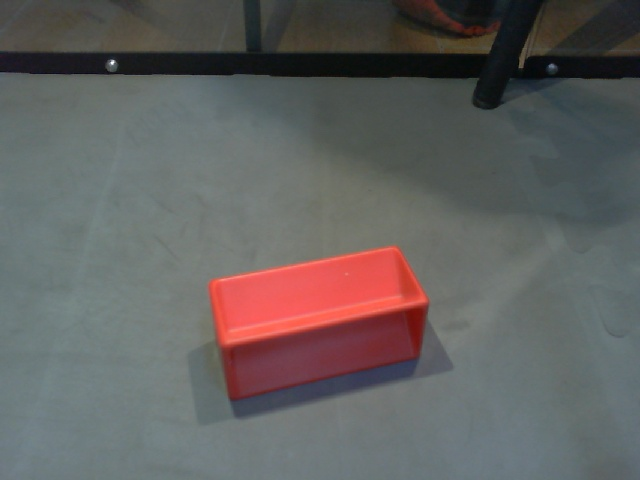RedSample: (206, 244, 432, 404)
